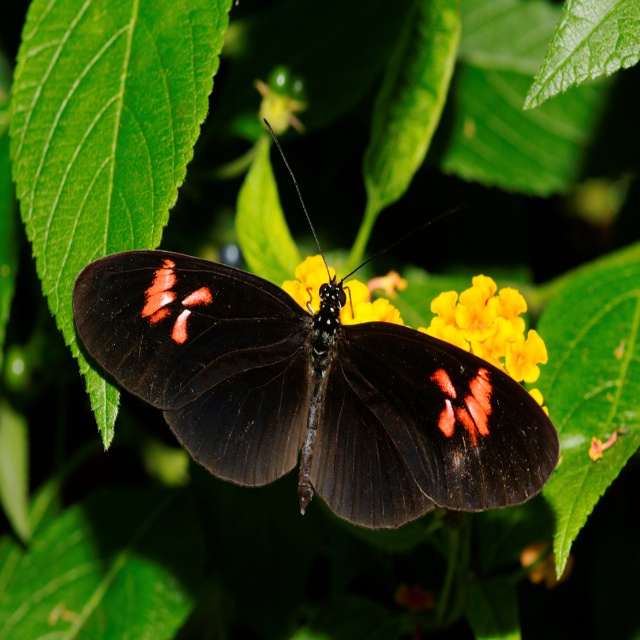Butterfly: (72, 118, 559, 531)
